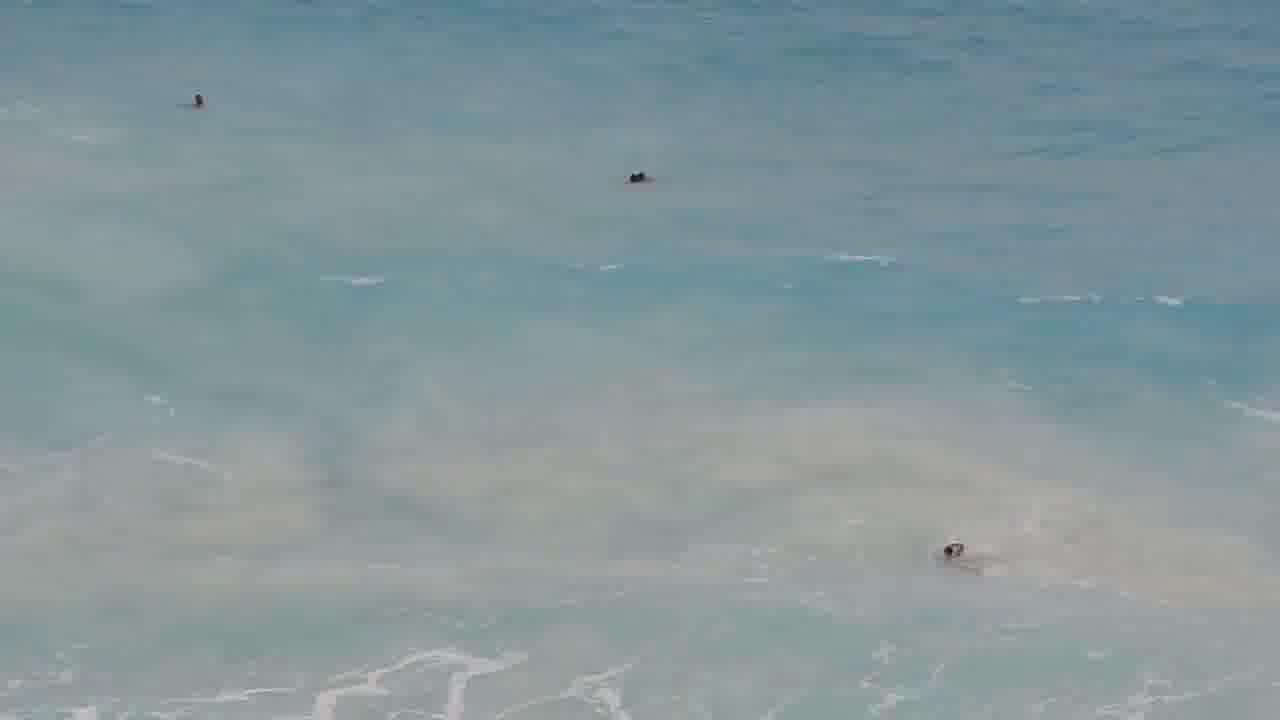human: (933, 537, 988, 574), (623, 158, 665, 196), (179, 83, 215, 109)
